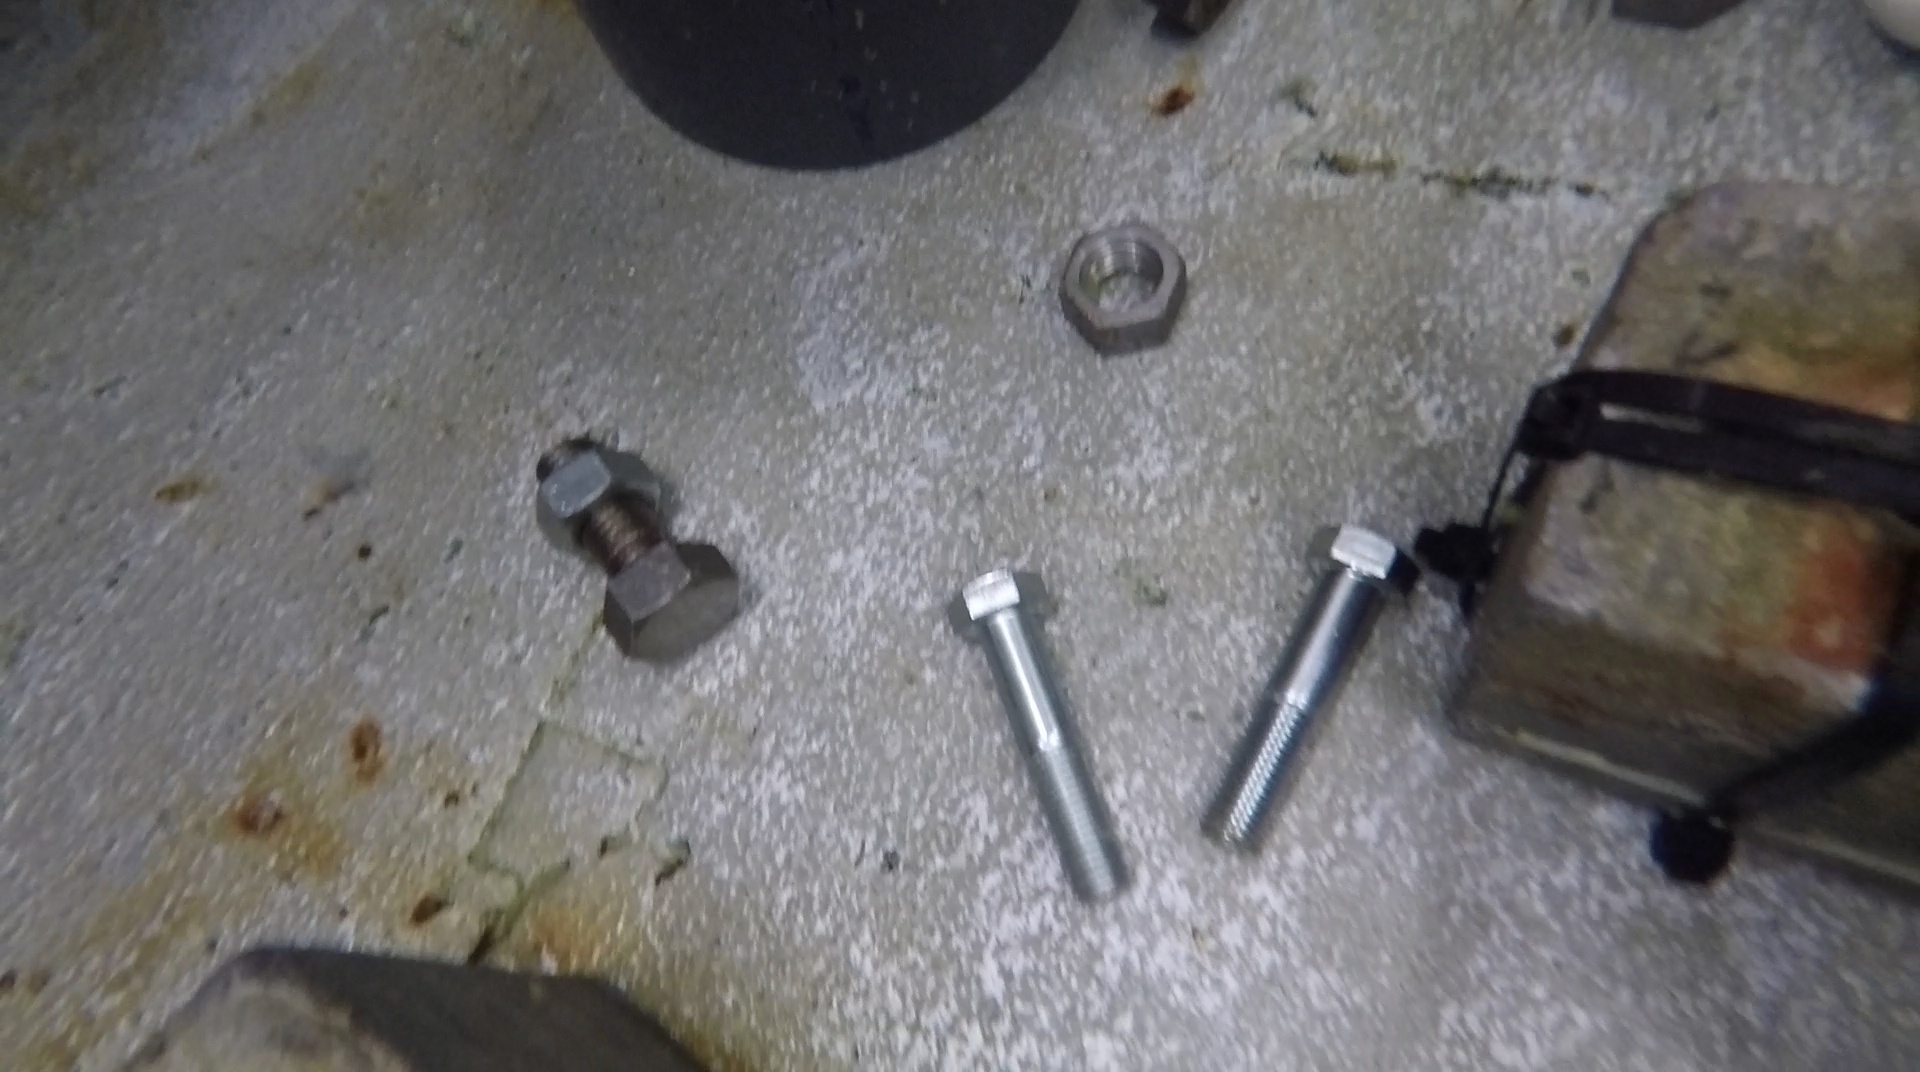bolt: (1203, 520, 1419, 856), (942, 568, 1130, 905), (533, 435, 740, 661)
led_block: (1412, 177, 1920, 894), (115, 945, 713, 1072)
nut: (1058, 220, 1189, 356), (530, 447, 662, 552)
pipe: (571, 1, 1077, 167)
